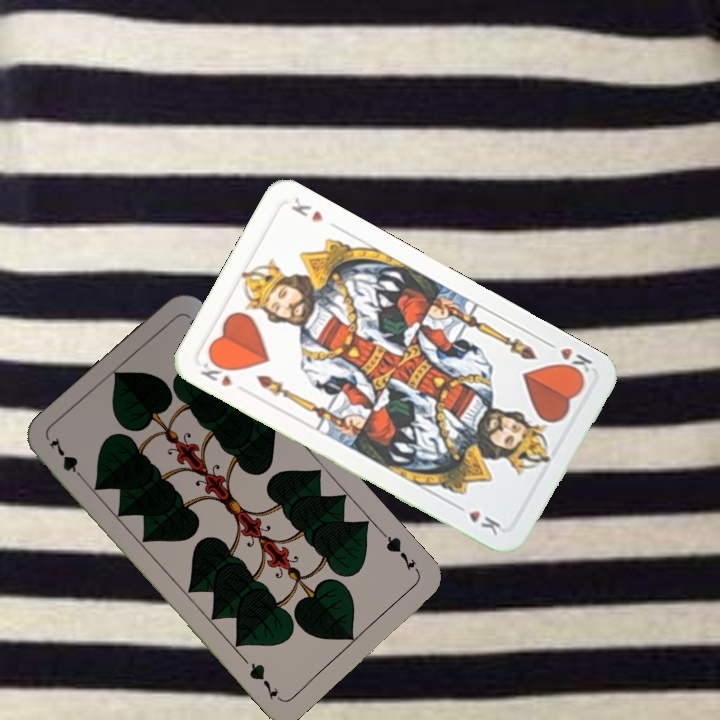G7: (44, 432, 89, 485), (377, 528, 422, 576)
HK: (541, 337, 595, 382), (196, 354, 237, 389)
